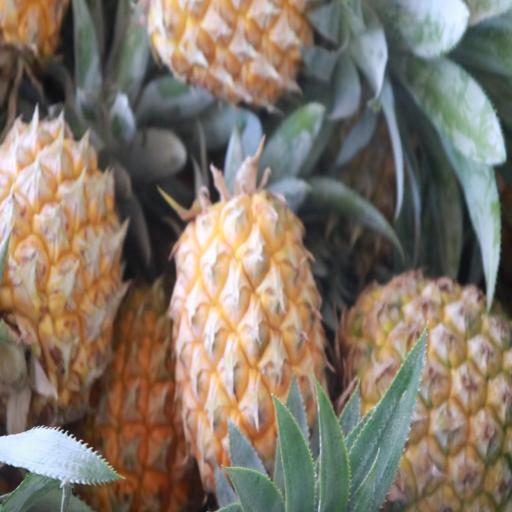Pineapple - v8 v1: (173, 194, 325, 502), (339, 274, 512, 512), (0, 115, 126, 387), (84, 281, 204, 512)
